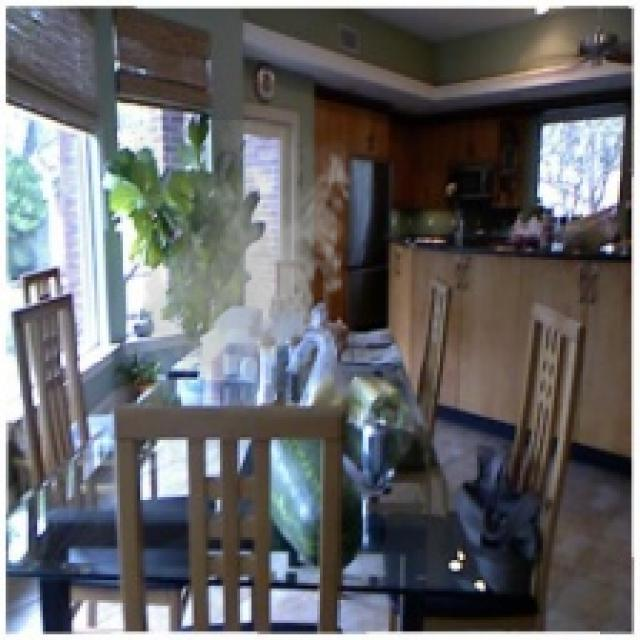Smoke: (134, 120, 357, 400)
